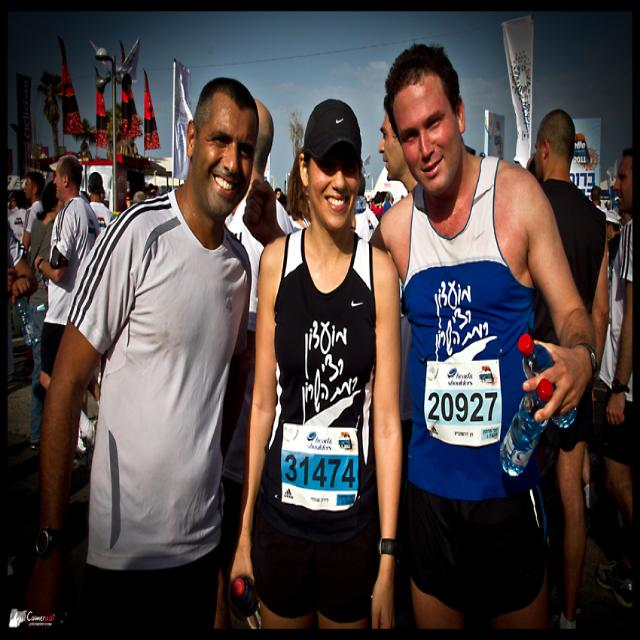Bib: (276, 452, 357, 496), (425, 388, 498, 426)
